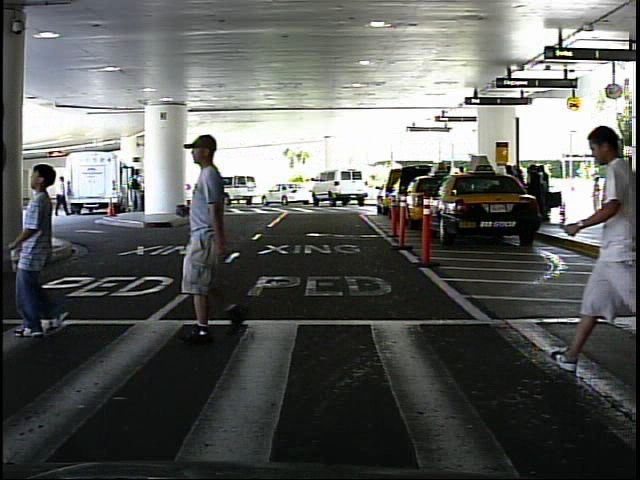person: (544, 115, 637, 382), (165, 130, 268, 343), (12, 156, 81, 345), (53, 172, 71, 222), (588, 172, 605, 216)
